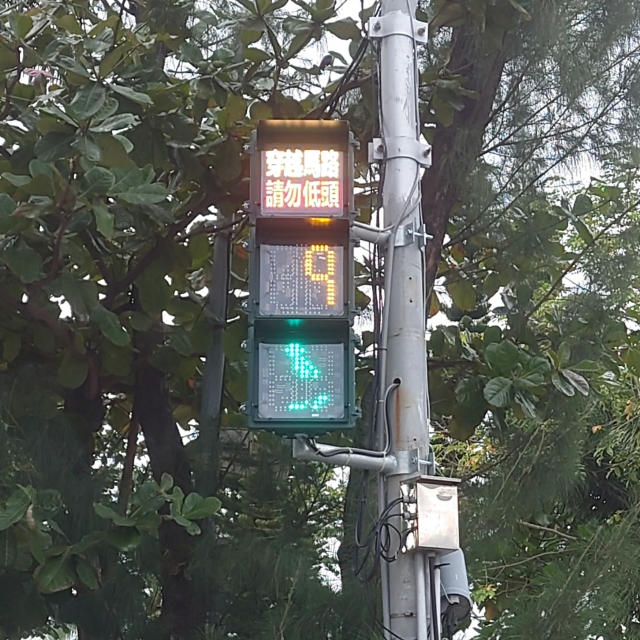green_light: (250, 216, 357, 426)
